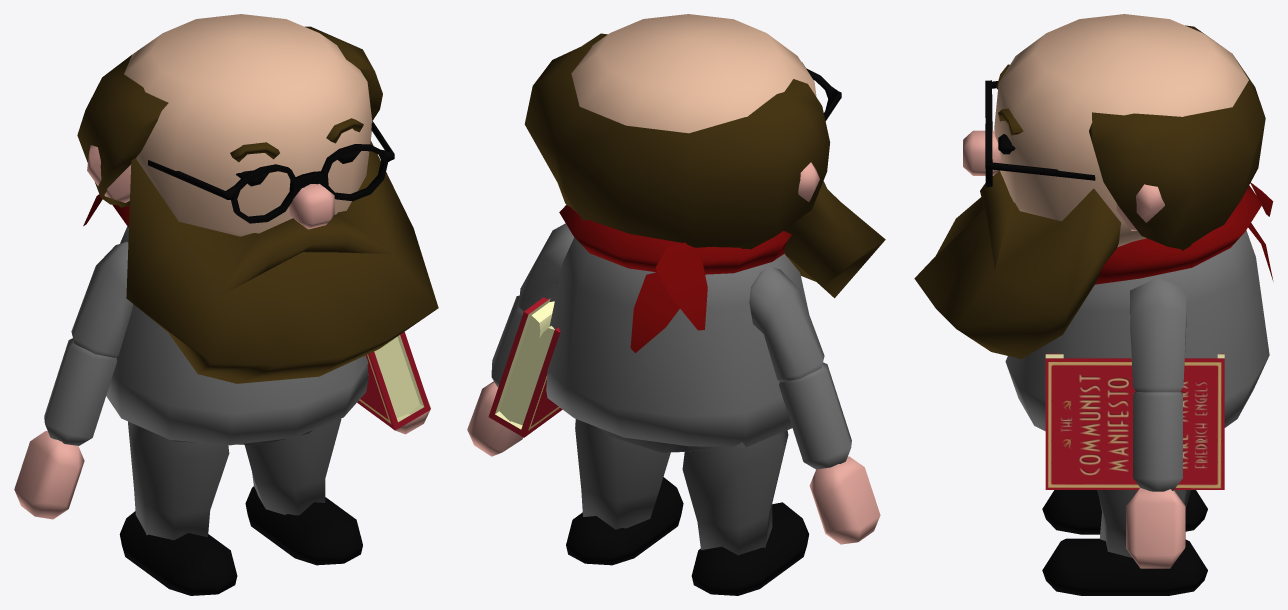
The model's file is CHAR_01_v8.fbx.
3 views of the same model, side by side, from view 1: azimuth 30°, elevation 25°; view 2: azimuth 150°, elevation 25°; view 3: azimuth 270°, elevation 25° (orthographic).
Parts seen in each view (by area): view 1: m_barbe3, m_tete, m_tronc, m_jambe_D, m_cheveux02, m_jambe_G, m_pied_D, m_pied_G, m_avantbras_D, m_bras_D, m_main_D, m_lunettes (+4 smaller); view 2: m_cheveux02, m_tronc, m_tete, m_jambe_D, m_jambe_G, m_barbe3, m_bras_D, m_echarpe1, m_pied_D, m_avantbras_D, m_pied_G, m_main_D (+9 smaller); view 3: m_tete, m_barbe3, m_cheveux02, m_tronc, book1couv, m_pied_G, m_bras_G, m_echarpe1, m_avantbras_G, m_main_G, m_pied_D, m_jambe_G (+3 smaller).
Part boxes in pixels (left/top/right/bottom): m_barbe3: left=126, top=140, right=438, bottom=383; m_tete: left=124, top=14, right=372, bottom=236; m_tronc: left=106, top=226, right=368, bottom=445; m_jambe_D: left=128, top=421, right=229, bottom=540; m_cheveux02: left=77, top=26, right=382, bottom=207; m_jambe_G: left=244, top=418, right=341, bottom=515; m_pied_D: left=119, top=511, right=237, bottom=595; m_pied_G: left=245, top=486, right=362, bottom=565; m_avantbras_D: left=44, top=338, right=116, bottom=445; m_bras_D: left=71, top=242, right=132, bottom=357; m_main_D: left=14, top=431, right=84, bottom=519; m_lunettes: left=148, top=121, right=394, bottom=223; m_cheveux02: left=524, top=33, right=830, bottom=249; m_tronc: left=546, top=237, right=808, bottom=446; m_tete: left=571, top=14, right=816, bottom=133; m_jambe_D: left=682, top=430, right=788, bottom=555; m_jambe_G: left=575, top=419, right=670, bottom=529; m_barbe3: left=783, top=181, right=885, bottom=298; m_bras_D: left=749, top=266, right=824, bottom=382; m_echarpe1: left=559, top=205, right=791, bottom=274; m_pied_D: left=691, top=502, right=809, bottom=595; m_avantbras_D: left=779, top=362, right=851, bottom=469; m_pied_G: left=566, top=477, right=683, bottom=565; m_main_D: left=809, top=456, right=880, bottom=544; m_tete: left=994, top=14, right=1248, bottom=247; m_barbe3: left=914, top=170, right=1120, bottom=358; m_cheveux02: left=1089, top=25, right=1265, bottom=250; m_tronc: left=1005, top=230, right=1269, bottom=431; book1couv: left=1045, top=358, right=1224, bottom=489; m_pied_G: left=1042, top=538, right=1207, bottom=595; m_bras_G: left=1130, top=277, right=1186, bottom=392; m_echarpe1: left=1095, top=185, right=1262, bottom=284; m_avantbras_G: left=1133, top=391, right=1182, bottom=491; m_main_G: left=1126, top=488, right=1185, bottom=568; m_pied_D: left=1042, top=490, right=1207, bottom=534; m_jambe_G: left=1097, top=490, right=1190, bottom=557.
Bounding box in the file's own units: 104 × 128 × 81.43.
